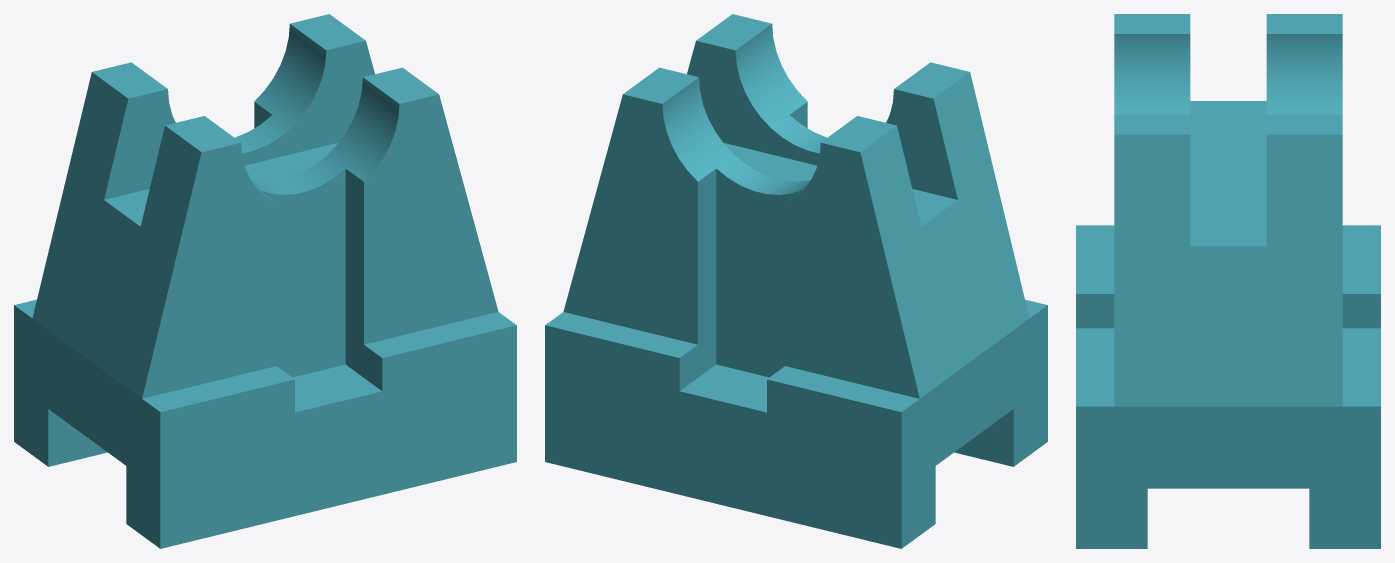
3 views of the same model, side by side, from view 1: azimuth 30°, elevation 25°; view 2: azimuth 150°, elevation 25°; view 3: azimuth 270°, elevation 25° (orthographic). The views are drawn at different scales.
Visible parts, largest first — view 1: Solid1; view 2: Solid1; view 3: Solid1.
Boxes of the visible parts, bbox=[...] form: Solid1: bbox=[14, 14, 516, 548]; Solid1: bbox=[545, 14, 1047, 548]; Solid1: bbox=[1076, 14, 1380, 548].
Bounding box in the file's own units: 0.09 × 0.089 × 0.064.
